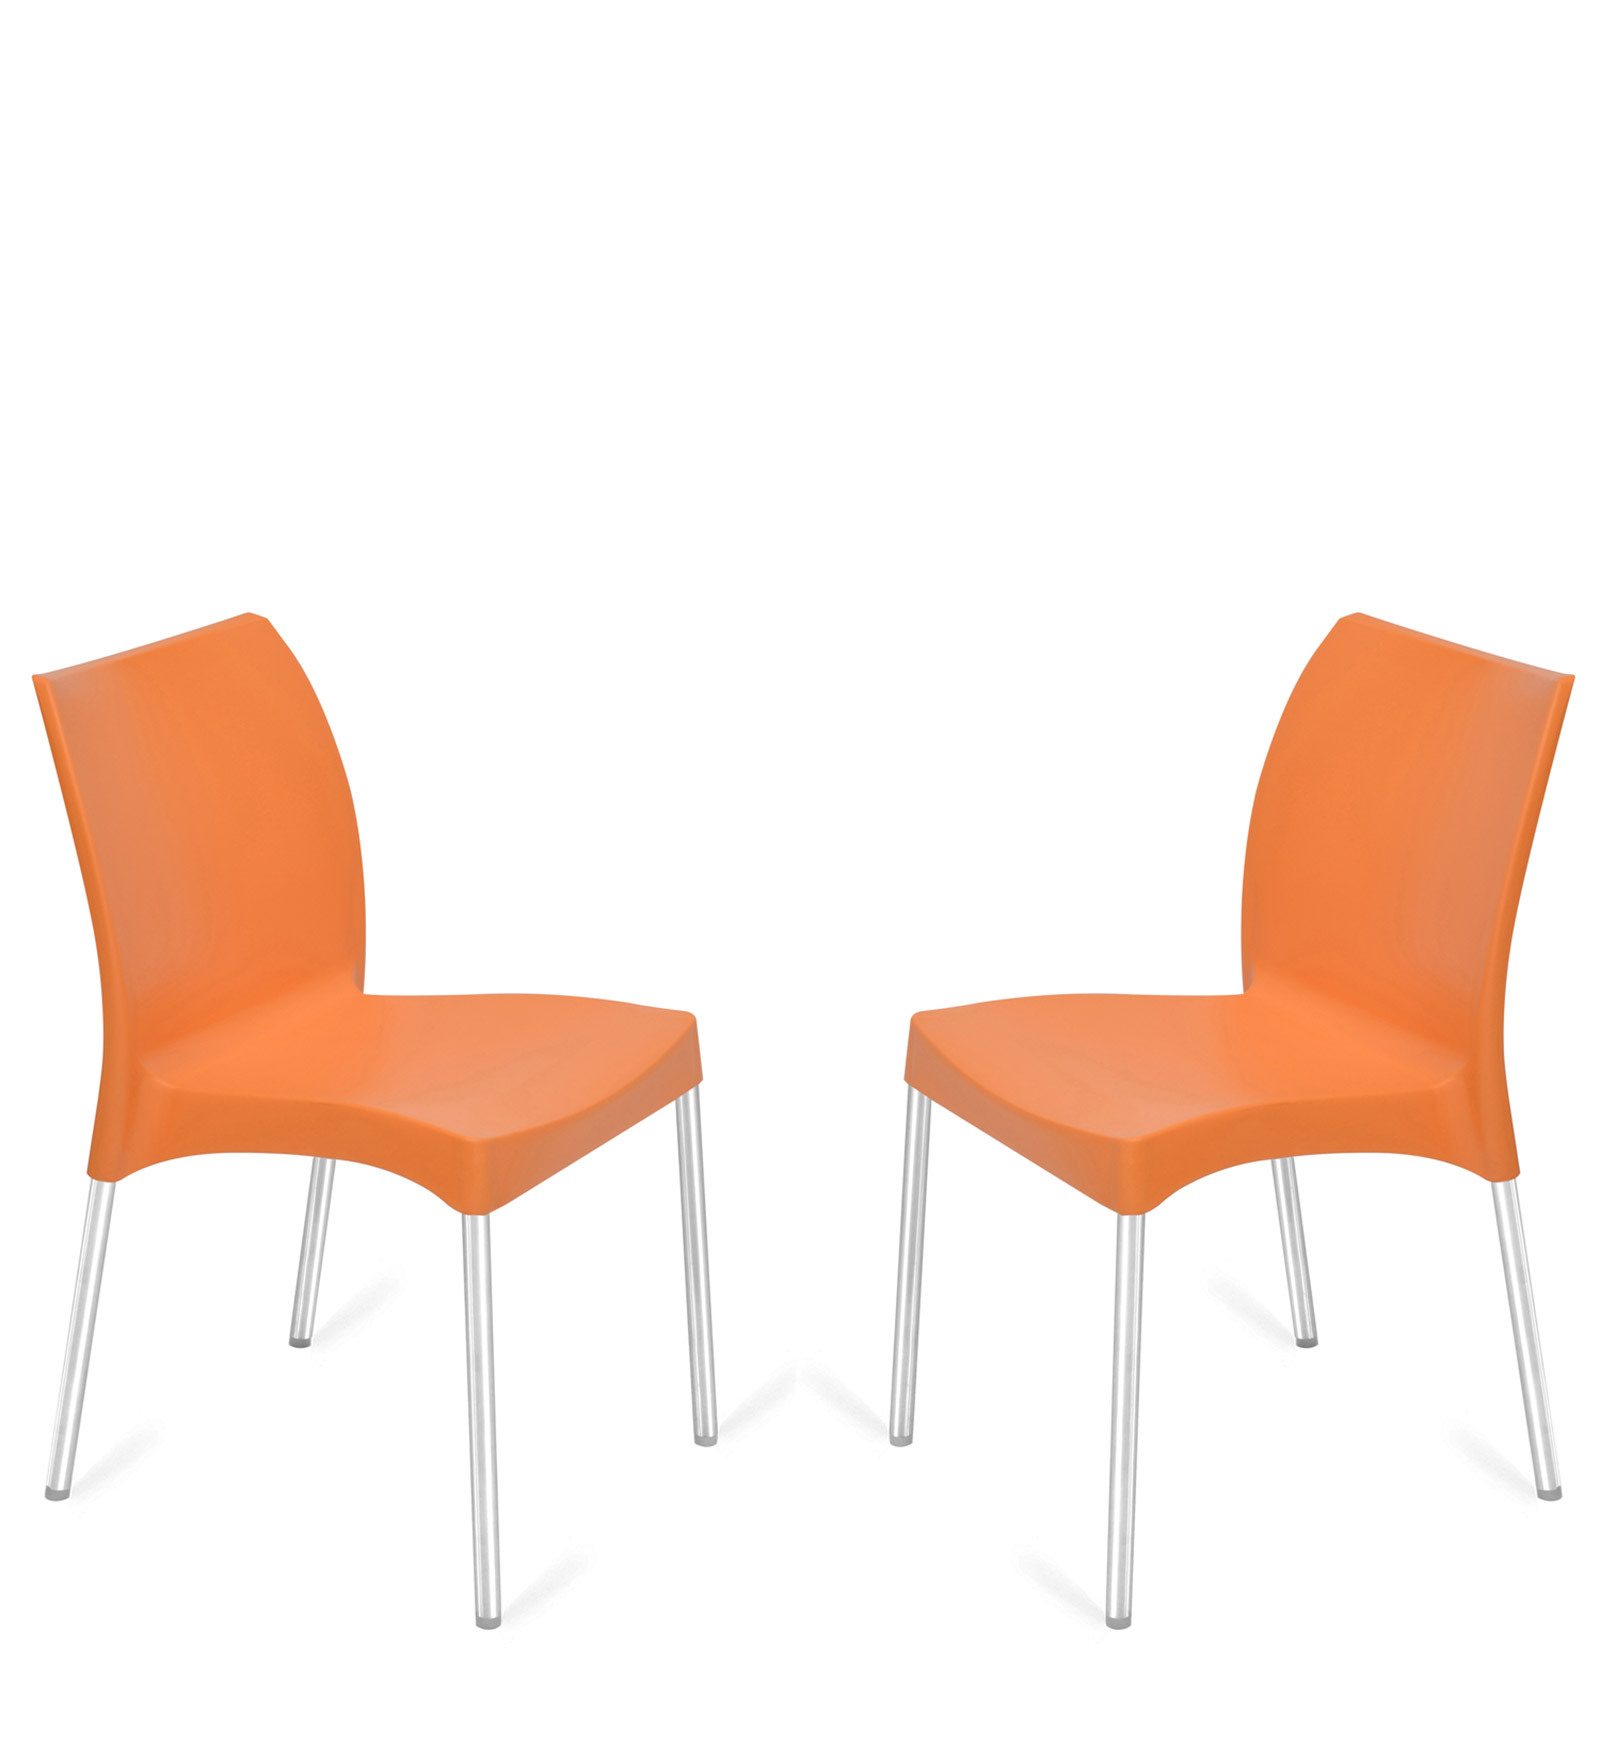Novella Series - 7 Chair (Set of 2) in Orange Colour by Nilkamal: (26, 607, 742, 1633), (875, 599, 1580, 1630)
